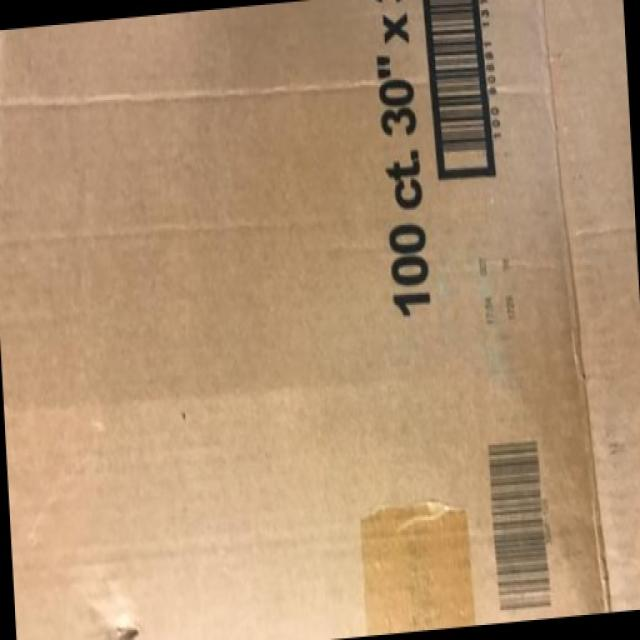carton: (5, 0, 607, 499)
